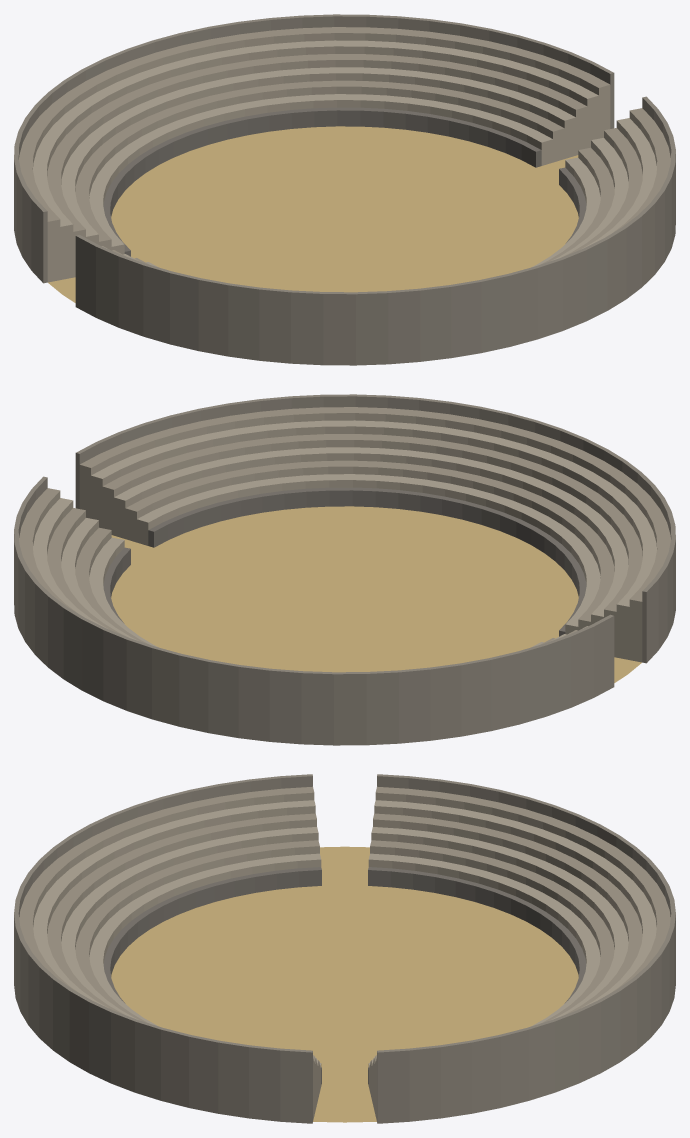
File: arena.gltf
The picture shows the model from 3 angles, top to bottom: view 1: azimuth 30°, elevation 25°; view 2: azimuth 150°, elevation 25°; view 3: azimuth 270°, elevation 25°; orthographic projection.
Visible parts, largest first — view 1: Stands, Floor, Wall; view 2: Stands, Floor, Wall; view 3: Stands, Floor, Wall.
Boxes of the visible parts, bbox=[...] form: Stands: bbox=[14, 14, 675, 365]; Floor: bbox=[48, 126, 578, 302]; Wall: bbox=[103, 107, 586, 256]; Stands: bbox=[14, 394, 675, 745]; Floor: bbox=[111, 506, 641, 682]; Wall: bbox=[103, 487, 586, 636]; Stands: bbox=[14, 774, 675, 1123]; Floor: bbox=[111, 846, 578, 1122]; Wall: bbox=[103, 867, 586, 1084].
Bounding box in the file's own units: 56.13 × 6.7 × 56.4.
